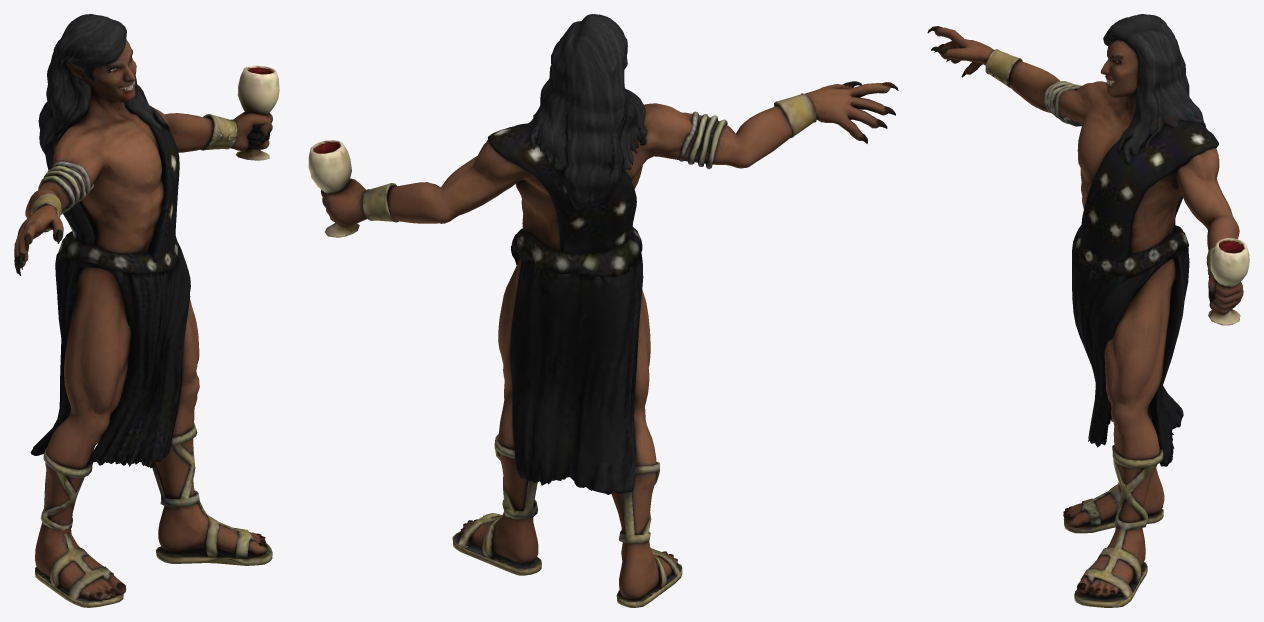
File: MZ4250 - Vampre_male 2025.glb
The picture shows the model from 3 angles, left to right: view 1: azimuth 30°, elevation 25°; view 2: azimuth 150°, elevation 25°; view 3: azimuth 270°, elevation 25°; orthographic projection. The views are drawn at different scales.
Visible parts, largest first — view 1: Vampire 2025.001; view 2: Vampire 2025.001; view 3: Vampire 2025.001.
Part boxes in pixels (<box>): Vampire 2025.001: <box>14,14,279,607</box>; Vampire 2025.001: <box>308,14,898,607</box>; Vampire 2025.001: <box>927,14,1249,607</box>.
Size of the model in its own units: 72.27 by 93.1 by 51.92.
Materials: 2 (2 with a texture image).
